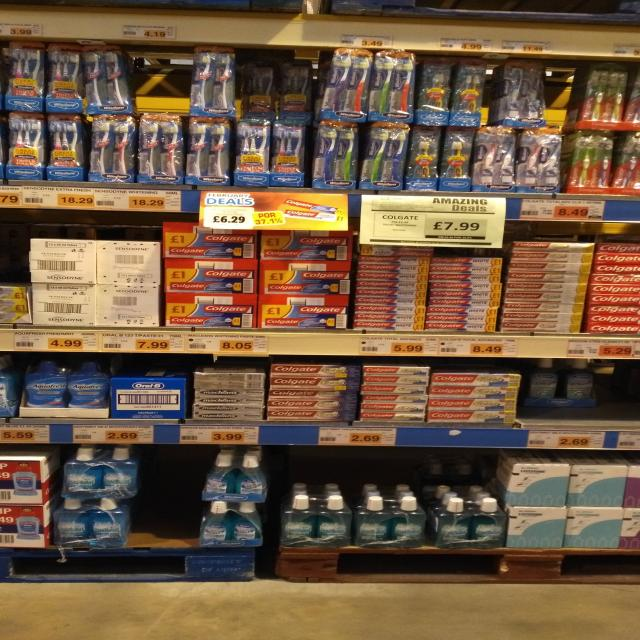void: (143, 450, 194, 583), (599, 360, 640, 448)
